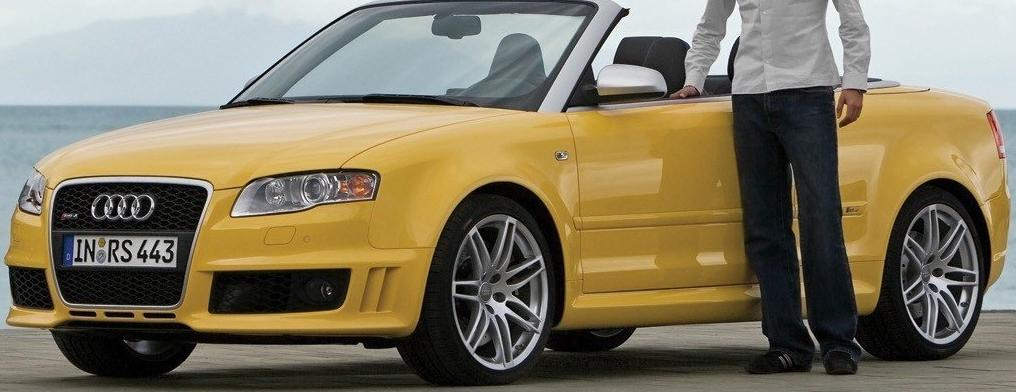front_view: (0, 141, 470, 342)
headlight: (219, 165, 387, 223)
